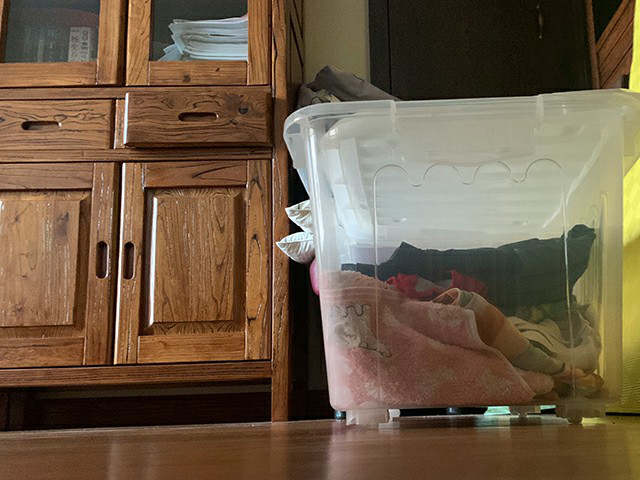cabinet: (1, 155, 281, 430)
